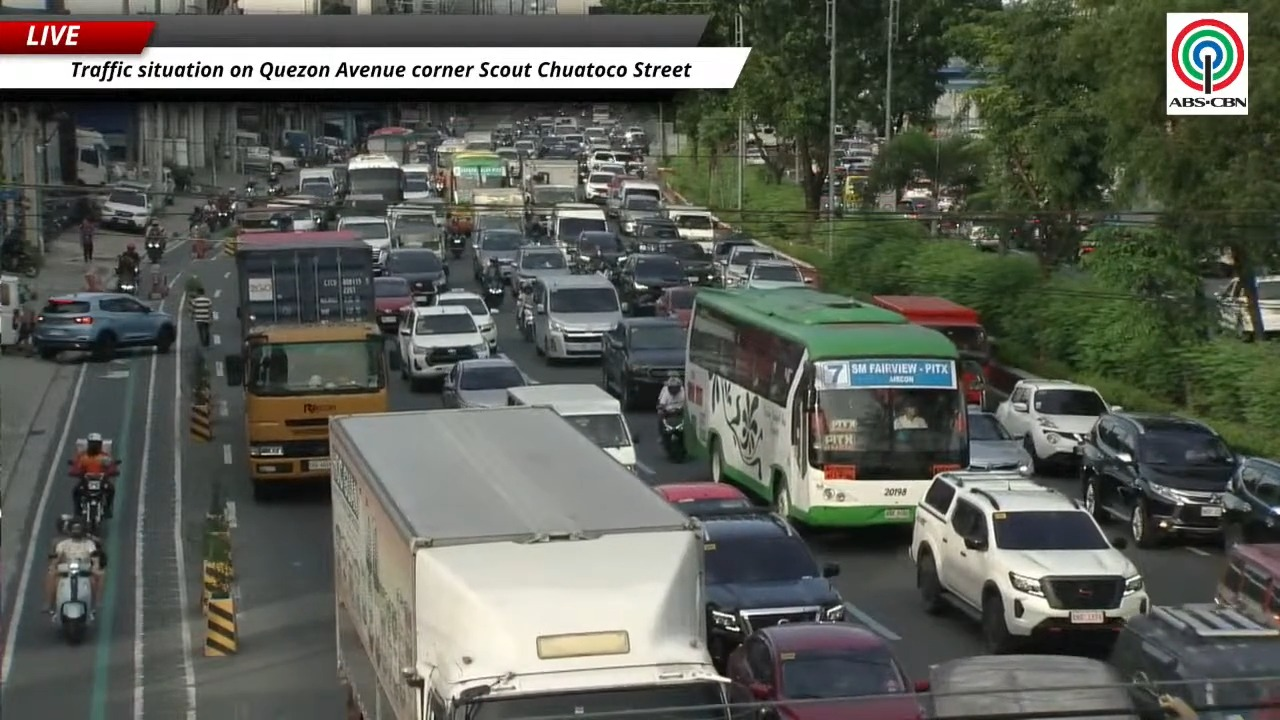bus: (686, 289, 967, 527), (452, 152, 509, 203), (348, 154, 404, 203), (366, 127, 415, 163)
car: (910, 471, 1149, 653), (699, 508, 845, 668), (1080, 413, 1237, 547), (1109, 603, 1279, 717), (726, 623, 926, 719), (927, 654, 1138, 719), (995, 379, 1119, 472), (32, 292, 176, 360), (529, 274, 622, 362), (602, 318, 686, 410), (398, 305, 489, 388), (512, 245, 571, 339), (1215, 544, 1279, 626), (1222, 457, 1279, 549), (442, 355, 530, 408), (613, 253, 688, 315), (435, 289, 497, 351), (967, 410, 1028, 470), (383, 248, 448, 301), (654, 483, 754, 517), (336, 215, 392, 267), (512, 245, 570, 295), (473, 229, 528, 281), (655, 240, 715, 285), (100, 185, 155, 231), (719, 246, 777, 286), (374, 276, 413, 332), (572, 231, 625, 271), (655, 286, 697, 329), (743, 260, 807, 288), (618, 196, 664, 234), (1253, 275, 1279, 337), (711, 236, 758, 266), (631, 216, 678, 239), (474, 212, 524, 233), (584, 171, 614, 203)
motorcycle: (54, 562, 94, 644), (76, 473, 106, 534), (660, 409, 686, 462), (0, 243, 38, 277), (484, 282, 505, 309), (145, 235, 164, 263), (187, 206, 205, 232), (448, 235, 466, 259), (213, 209, 233, 229), (116, 276, 137, 295), (268, 175, 284, 196), (244, 181, 257, 202)
truck: (331, 407, 727, 719), (224, 231, 388, 499), (529, 159, 580, 187), (472, 188, 523, 213)
